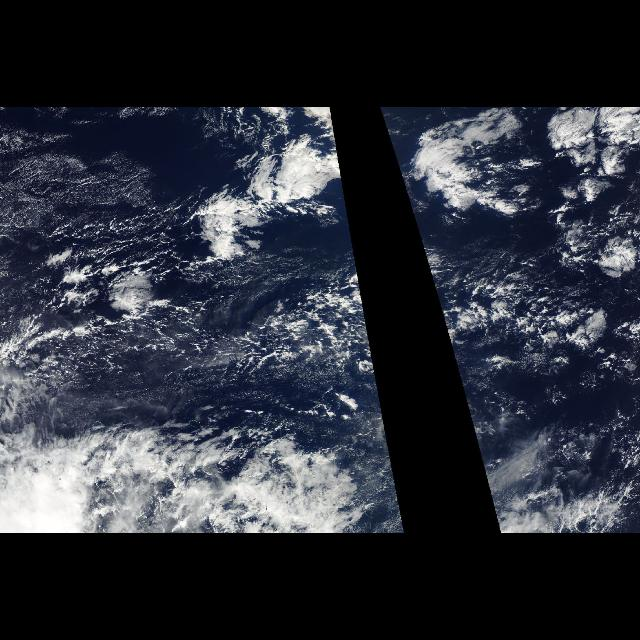Fish: (225, 264, 381, 402), (427, 264, 557, 402)
Flower: (186, 108, 354, 268), (380, 109, 558, 249), (105, 264, 181, 322)
Gravel: (424, 248, 624, 406), (217, 254, 383, 406), (5, 293, 212, 395)
Sugar: (0, 120, 222, 246)
